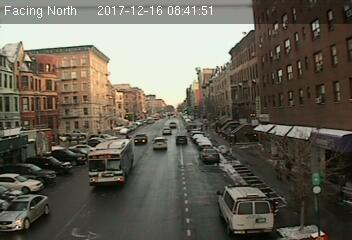bus: (87, 136, 135, 187)
car: (1, 192, 48, 234), (201, 148, 219, 161), (152, 137, 167, 149), (132, 133, 147, 143), (175, 134, 188, 145), (161, 127, 172, 136)
police: (217, 183, 273, 237)
